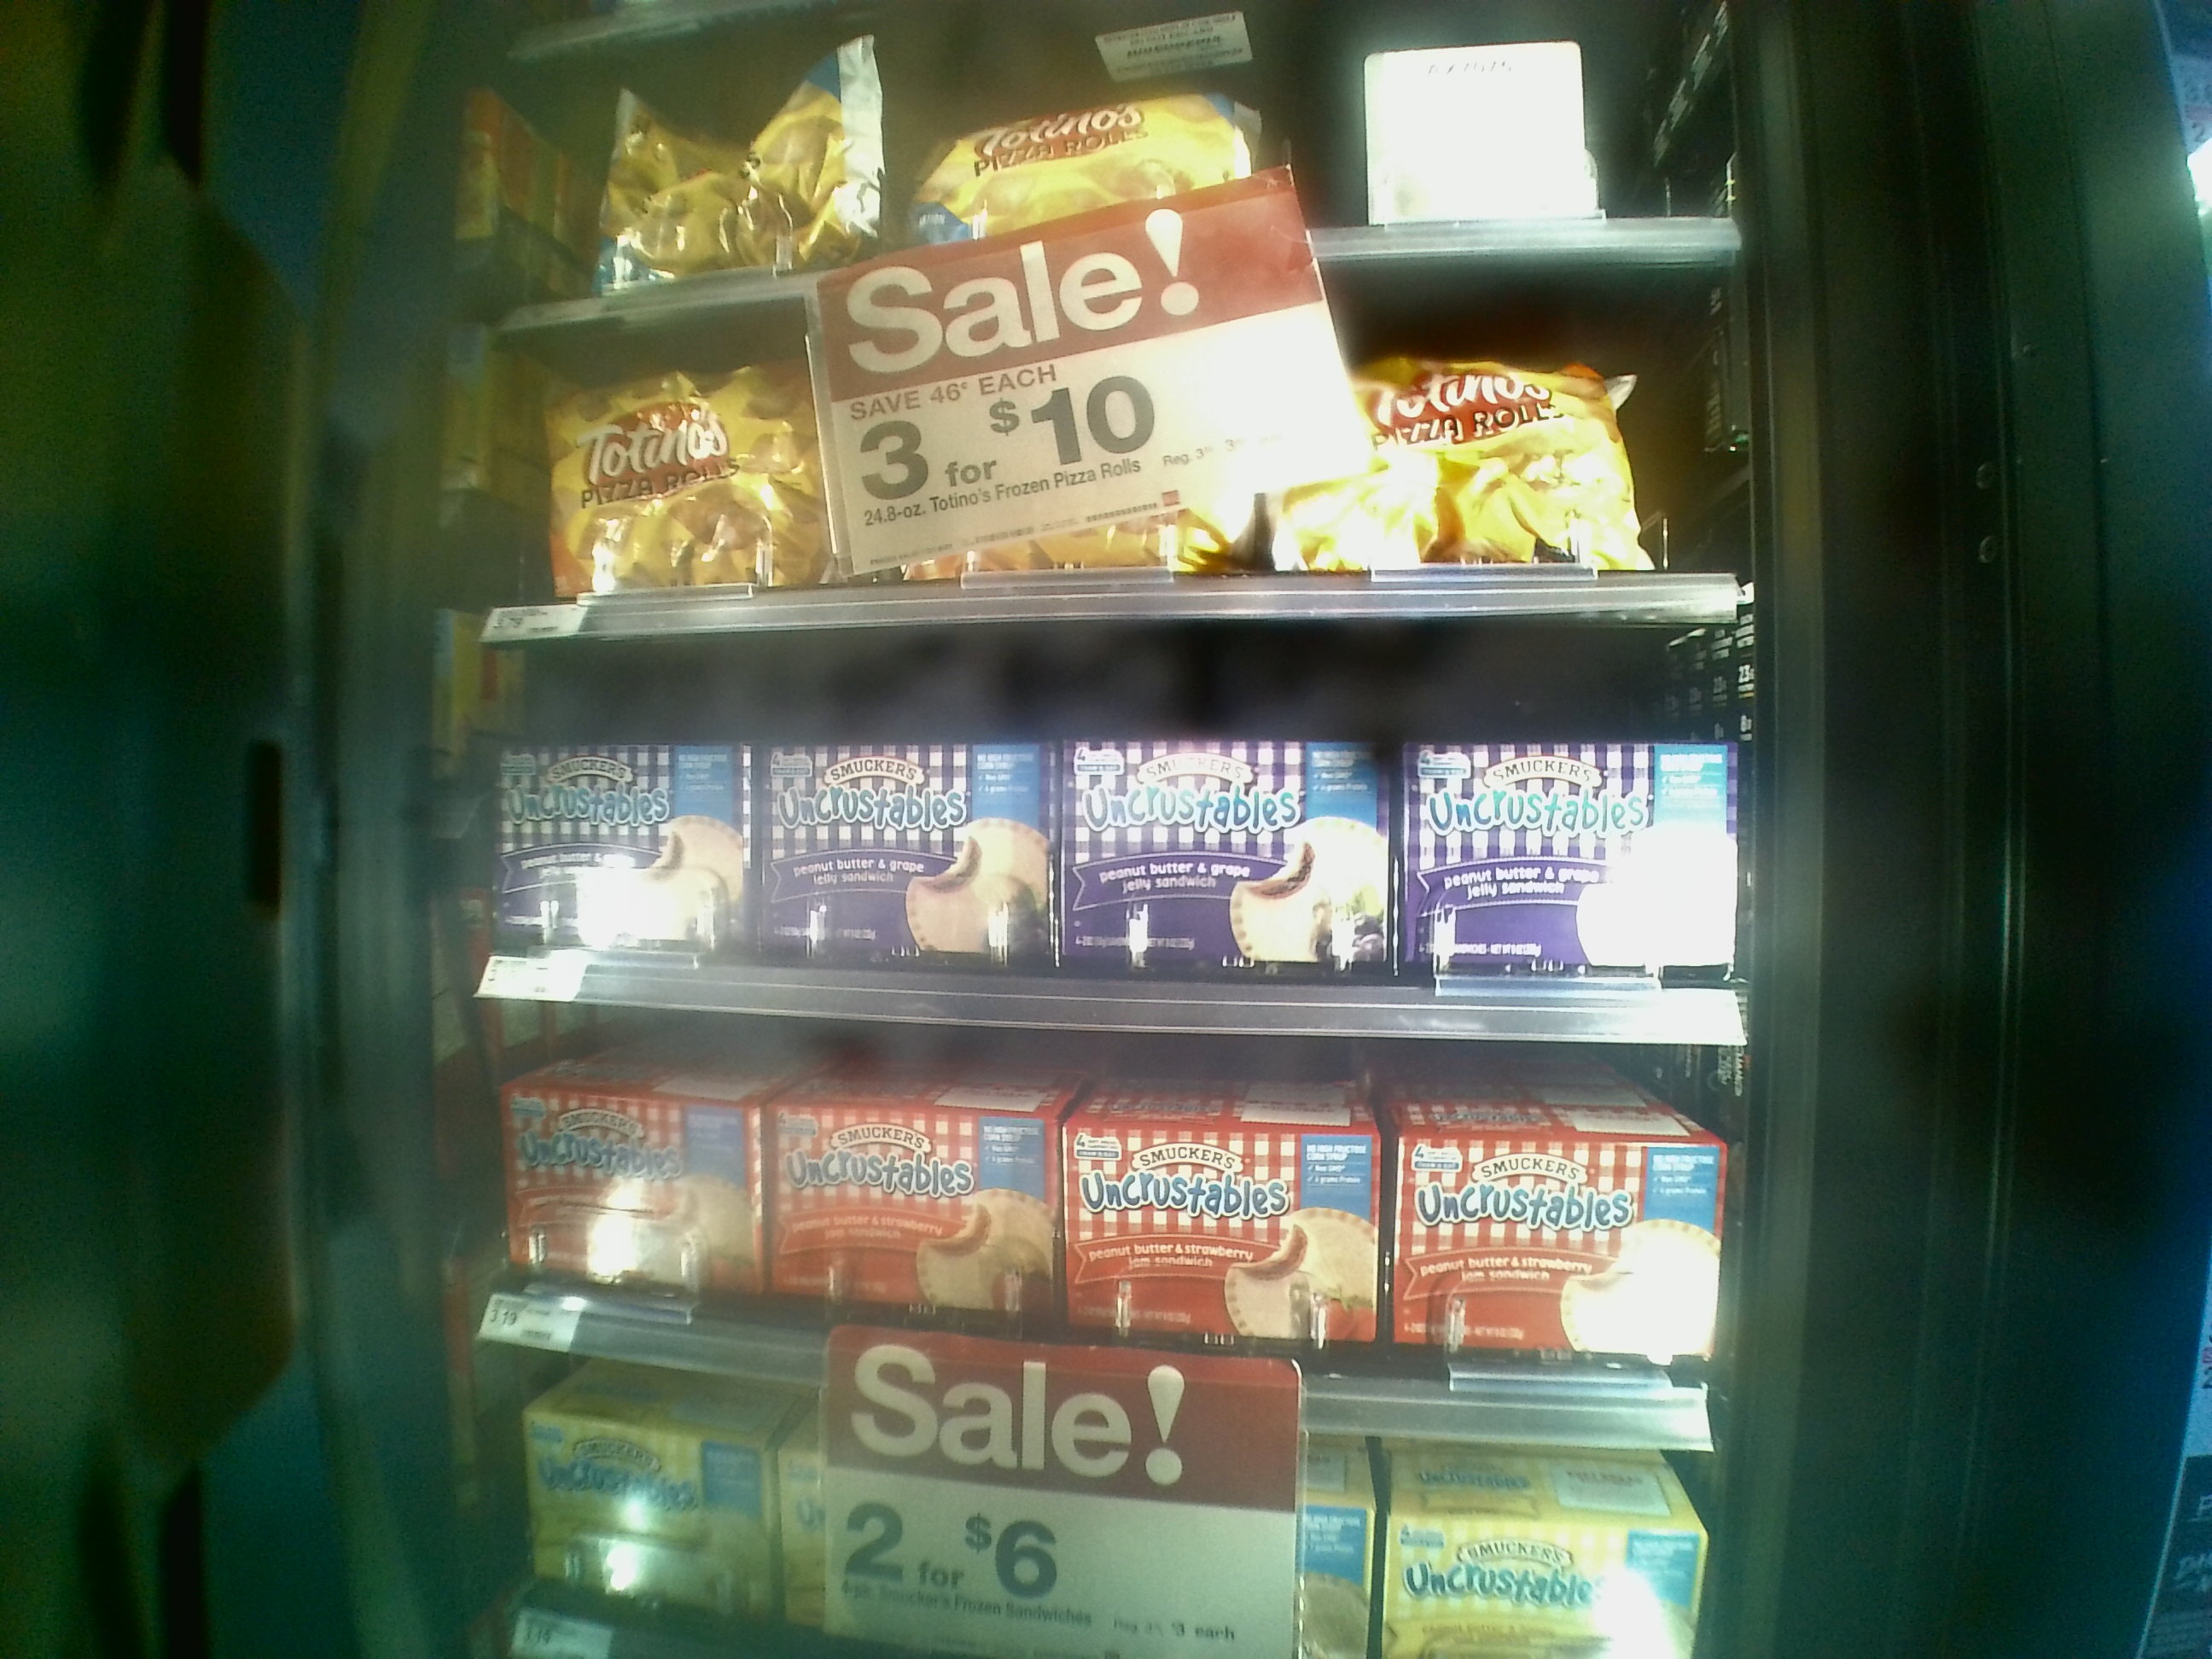shelf: (456, 1011, 1735, 1460), (446, 638, 1747, 1047), (460, 305, 1740, 631)
